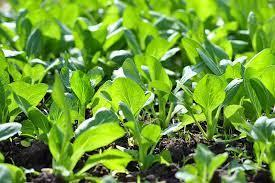Healthy-Pechay: (1, 99, 79, 173), (209, 136, 273, 181), (106, 77, 148, 118), (74, 21, 105, 60), (124, 162, 180, 183), (8, 80, 48, 109), (71, 70, 95, 112), (195, 75, 224, 109), (144, 35, 175, 62), (197, 47, 224, 75), (246, 48, 275, 73), (1, 138, 25, 165), (122, 5, 142, 33), (0, 21, 20, 47), (26, 29, 43, 58), (240, 98, 259, 123), (113, 133, 138, 151), (53, 17, 73, 38), (212, 0, 232, 21), (178, 65, 197, 86), (154, 16, 180, 31), (109, 49, 133, 64), (114, 169, 137, 183), (207, 140, 227, 155), (169, 103, 187, 119), (208, 169, 224, 183), (108, 19, 123, 33), (230, 39, 249, 50), (160, 149, 173, 164), (188, 123, 204, 135), (266, 117, 275, 131), (240, 64, 246, 78)
